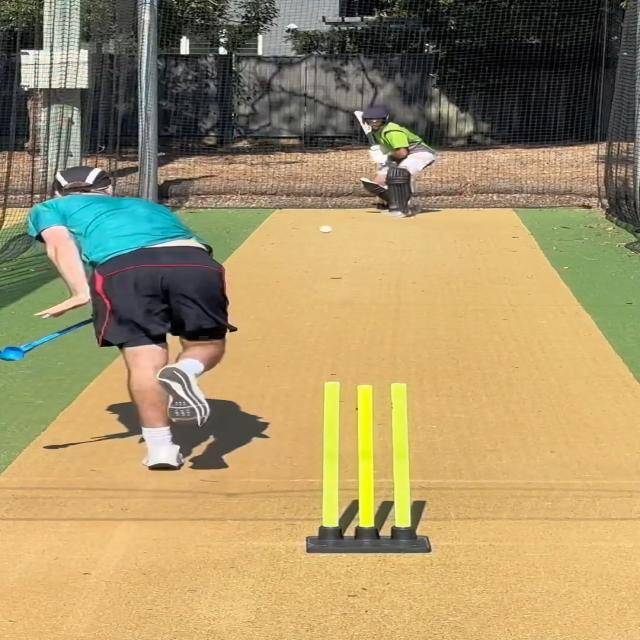ball: (318, 224, 334, 234)
stump: (306, 378, 430, 557)
